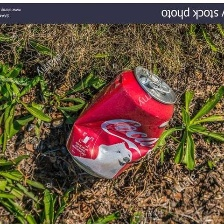can: (58, 62, 179, 182)
